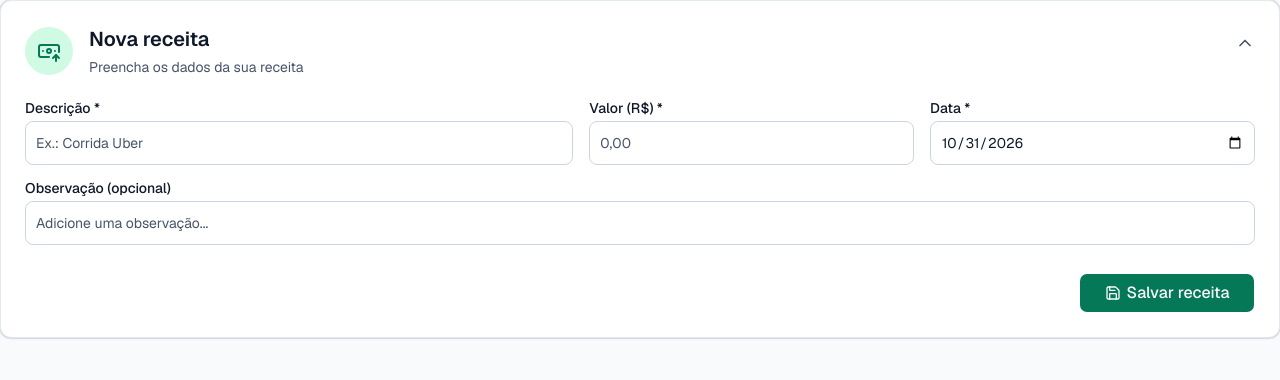
Test: IncomeForm › should reject an amount above the allowed ceiling
This screenshot has width=1280, height=380.
Type "Corrida Nova" into the field labelled "Descrição *".
click(299, 143); type("Corrida Nova")  # box [25, 121, 573, 165]
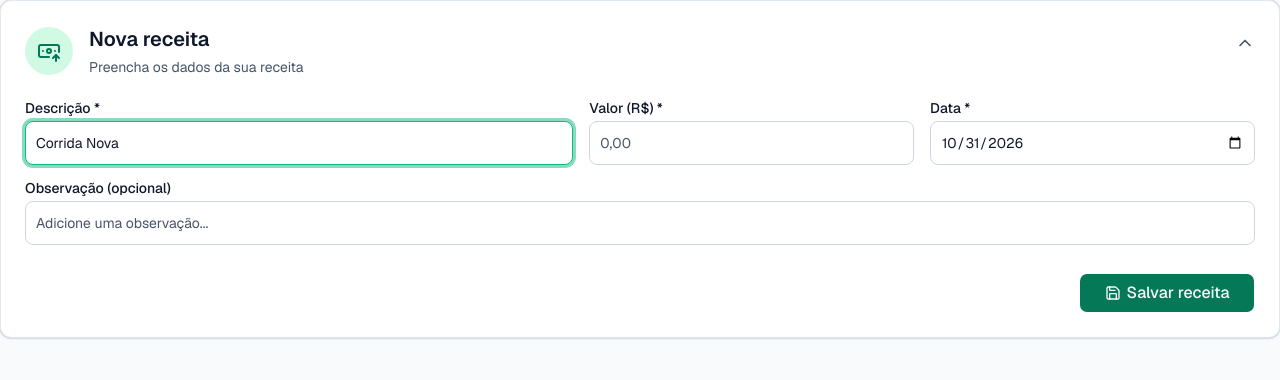
Type "1000000000000" into the field labelled "Valor (R$) *".
click(752, 143); type("1000000000000")  # box [589, 121, 914, 165]
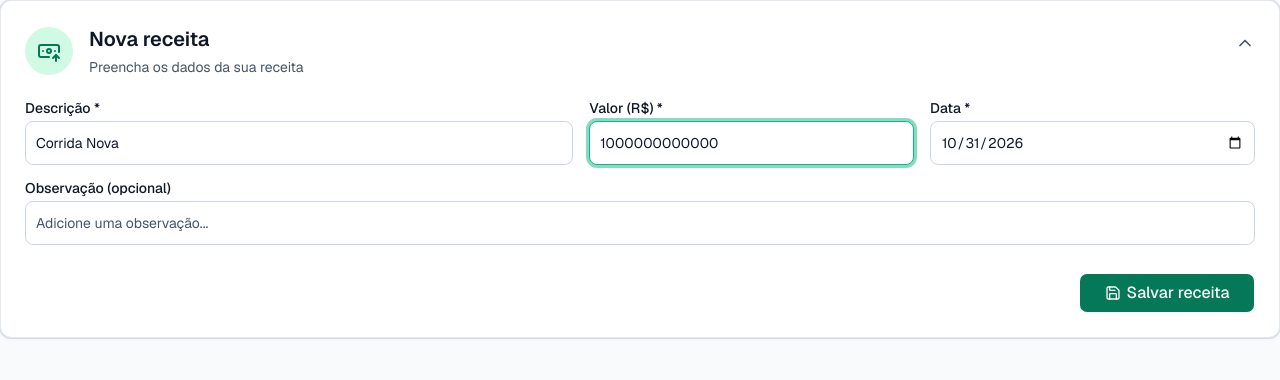
Type "2026-04-10" into the date field labelled "Data *".
click(1093, 143); type("2026-04-10")  # box [930, 121, 1255, 165]
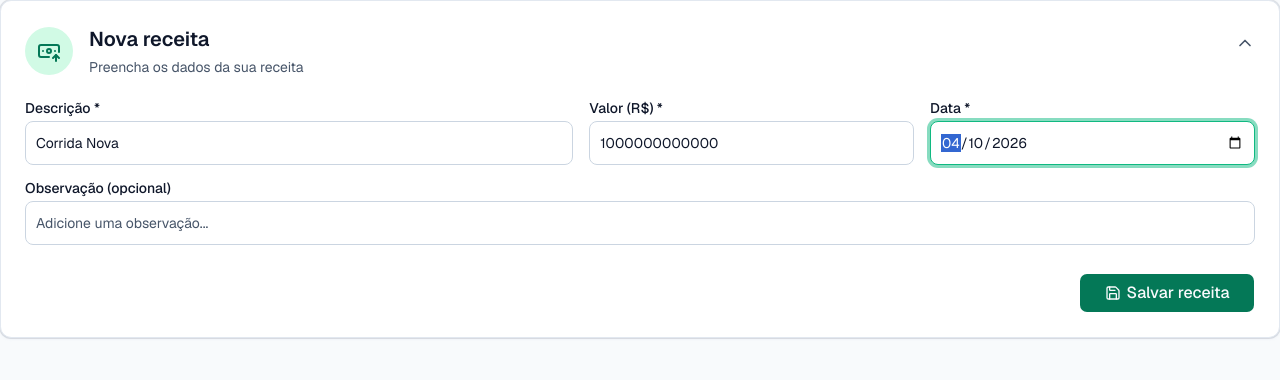
Click the button "Salvar receita".
click(1167, 293)  # box [1079, 273, 1255, 313]
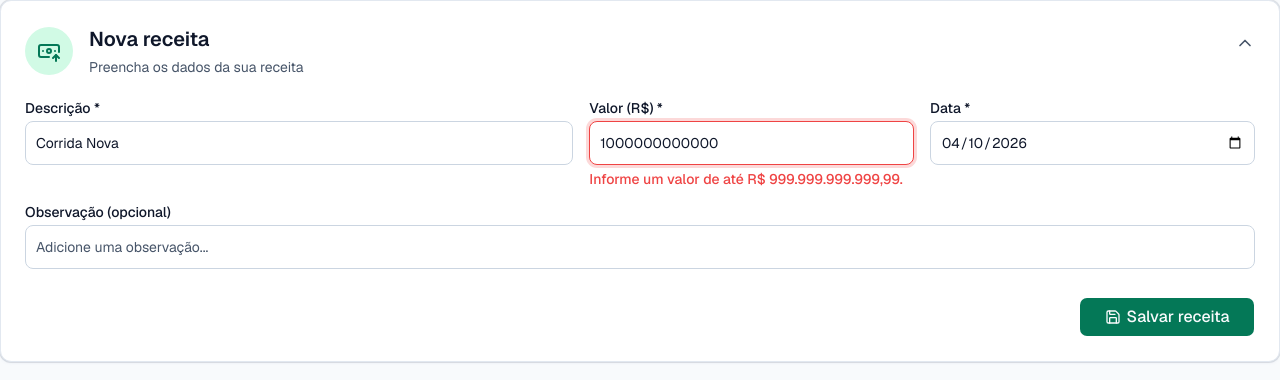
Now the text "Informe um valor de até R$ 999.999.999.999,99." is shown, box [589, 169, 914, 189]
